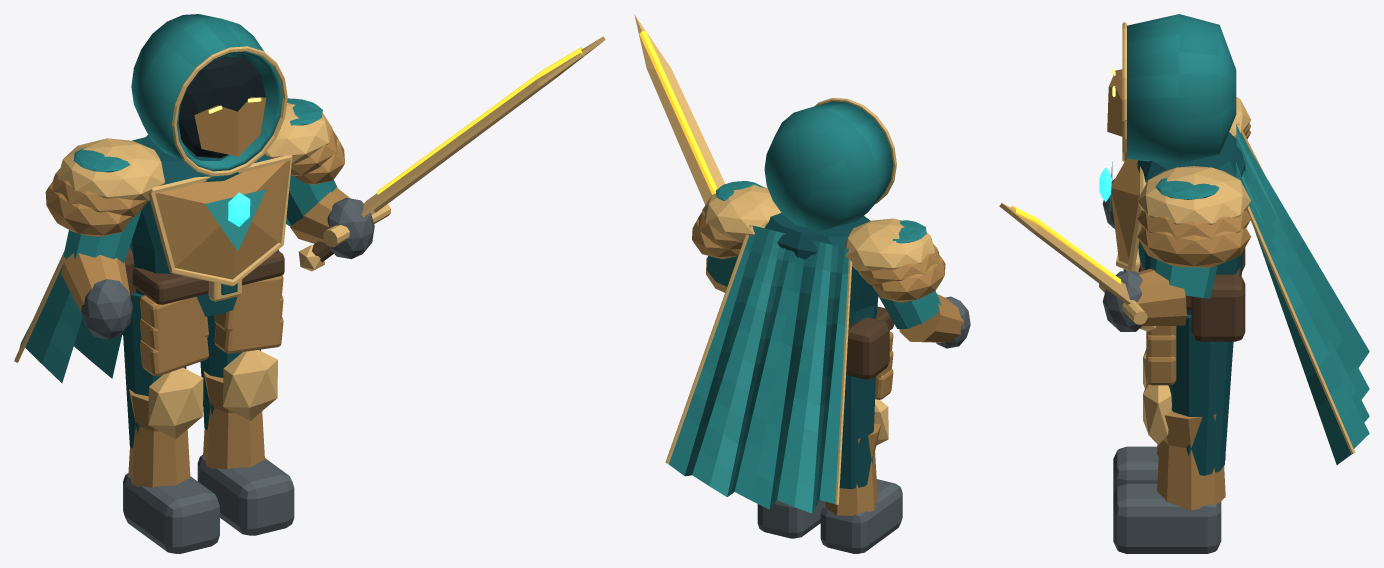
File: hero.glb
The picture shows the model from 3 angles, left to right: view 1: azimuth 30°, elevation 25°; view 2: azimuth 150°, elevation 25°; view 3: azimuth 270°, elevation 25°; orthographic projection. The views are drawn at different scales.
Visible parts, largest first — view 1: Body_metal, Body_matte, Head_matte, Head_metal, Cape_matte, Sword_metal, Sword_glow_amber; view 2: Cape_matte, Body_metal, Head_matte, Body_matte, Sword_metal, Cape_metal, Sword_glow_amber, Head_metal; view 3: Body_metal, Head_matte, Body_matte, Cape_matte, Sword_metal, Head_metal, Cape_metal, Sword_glow_amber.
Part boxes in pixels (x1,y1,x2,y2): Body_metal: [45, 103, 374, 553]; Body_matte: [63, 98, 337, 448]; Head_matte: [131, 14, 282, 171]; Head_metal: [172, 46, 287, 176]; Cape_matte: [19, 137, 144, 383]; Sword_metal: [298, 36, 605, 271]; Sword_glow_amber: [377, 47, 584, 194]; Cape_matte: [668, 225, 849, 513]; Body_metal: [692, 184, 970, 553]; Head_matte: [764, 101, 893, 230]; Body_matte: [707, 181, 941, 489]; Sword_metal: [634, 14, 725, 204]; Cape_metal: [665, 225, 852, 504]; Sword_glow_amber: [639, 31, 717, 194]; Head_metal: [814, 98, 896, 203]; Body_metal: [1102, 97, 1251, 553]; Head_matte: [1127, 14, 1236, 163]; Body_matte: [1108, 132, 1245, 475]; Cape_matte: [1236, 124, 1369, 464]; Sword_metal: [999, 203, 1156, 331]; Head_metal: [1107, 22, 1126, 162]; Cape_metal: [1236, 122, 1355, 454]; Sword_glow_amber: [1010, 206, 1120, 284].
Size of the model in its own units: 1.78 by 1.87 by 1.24.
